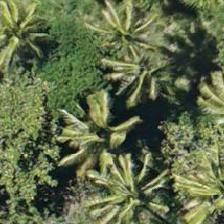coconut_tree: (81, 0, 171, 77), (86, 156, 176, 223), (0, 0, 60, 75), (176, 146, 223, 223)
